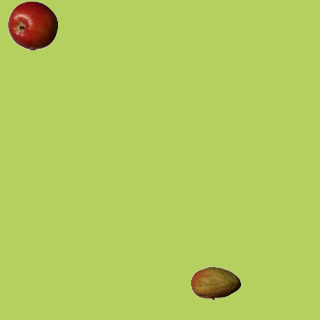Apple Braeburn: (7, 0, 57, 50)
Papaya: (190, 258, 240, 308)
